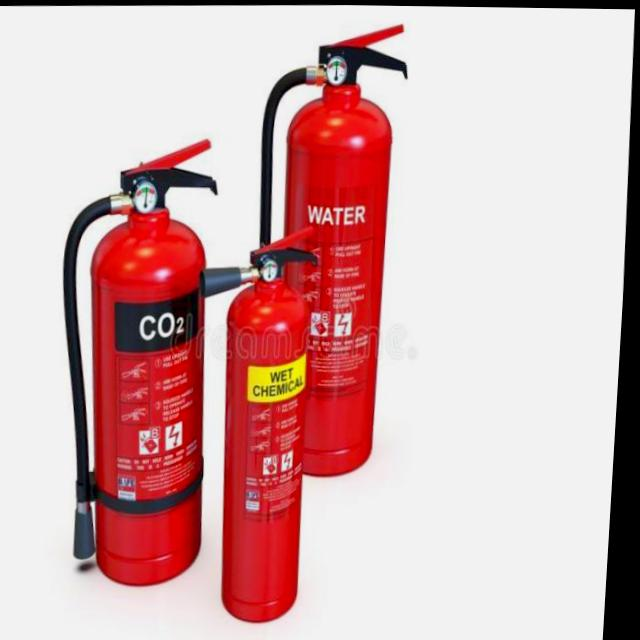FireExtinguisher: (43, 128, 237, 590), (237, 18, 419, 479), (183, 220, 335, 627)
